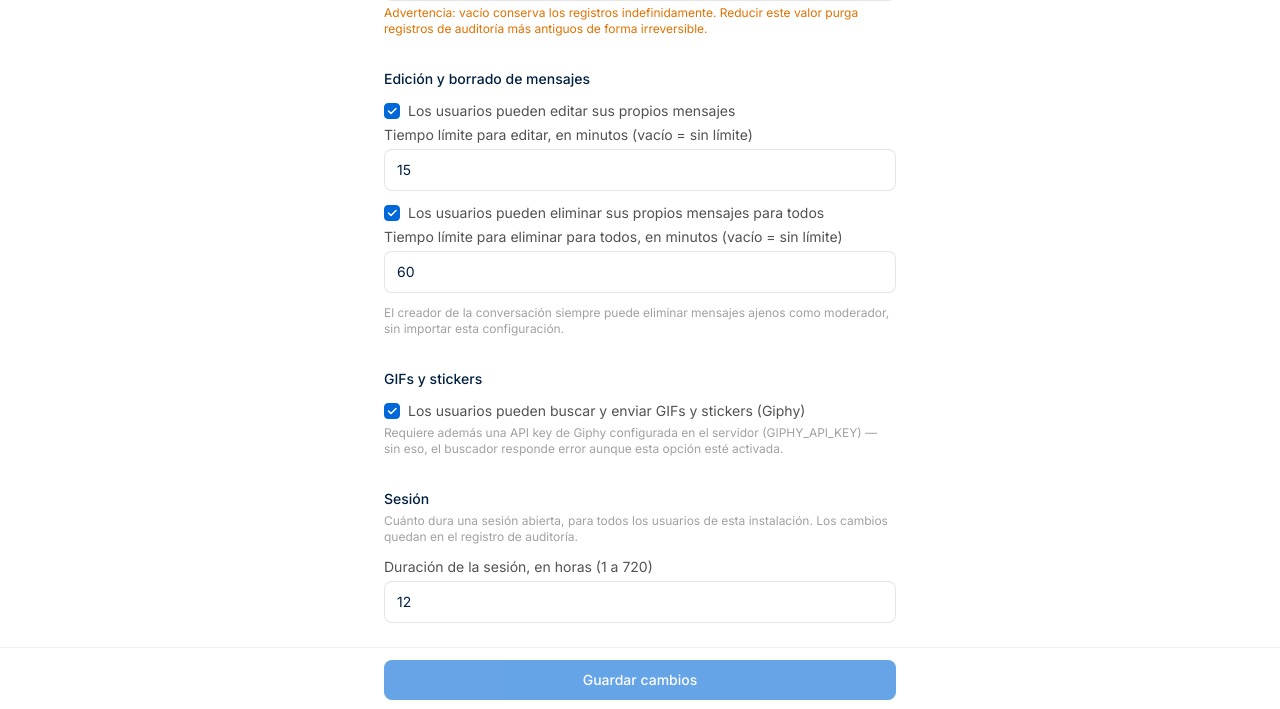
Test: AdminSettingsPanel › Sesión y contraseñas › con un proveedor externo también advierte que bajar la duración corta las sesiones abiertas
(page scrolled)
Replace the text in the number field labelled "Duración de la sesión, en horas (1 a 720)" with "4" at (640, 602), box x1=384 y1=581 x2=896 y2=623
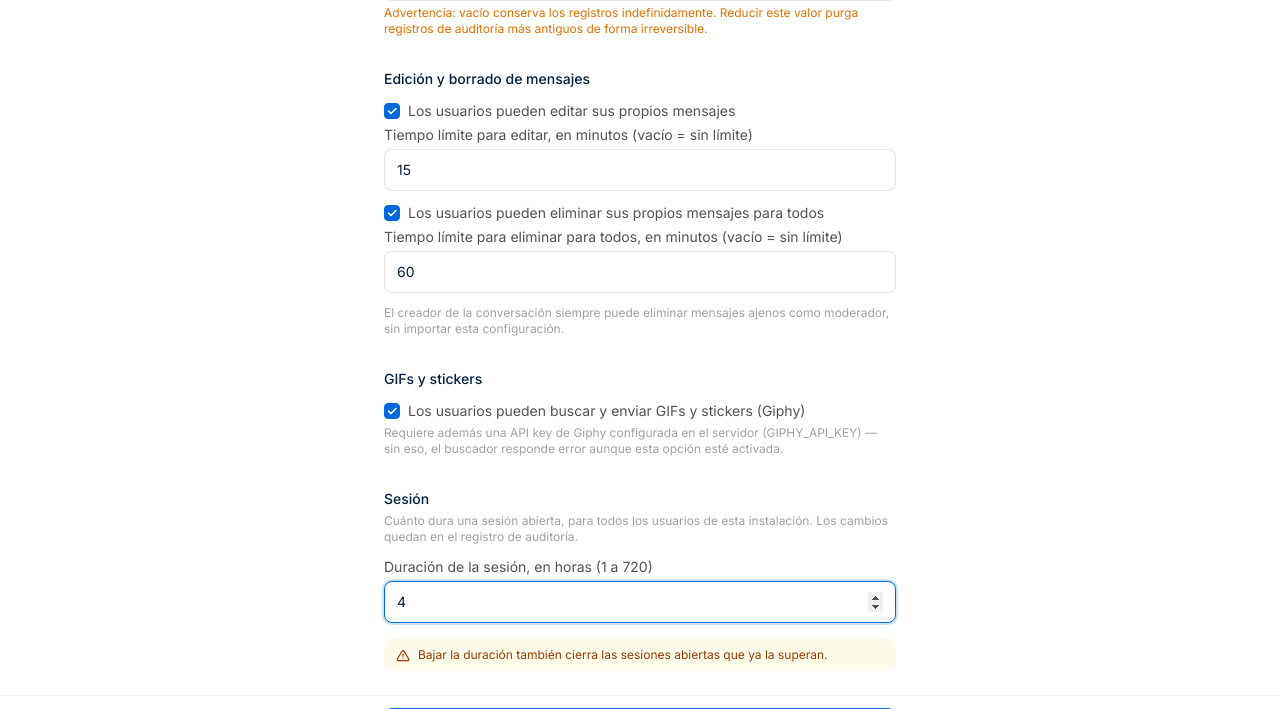
Now the element with test id "session-warnings" shows "también cierra las sesiones abiertas", box x1=418 y1=647 x2=828 y2=662
